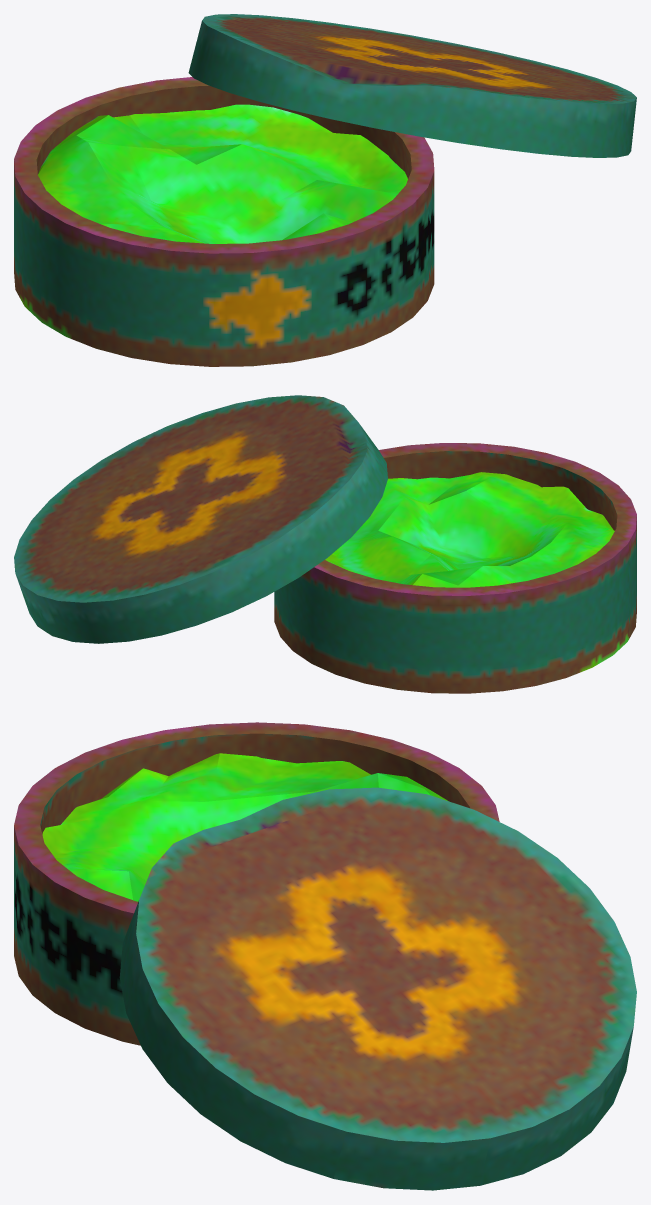
File: Oitment.glb
3 renders of one model, top to bottom at view 1: azimuth 30°, elevation 25°; view 2: azimuth 150°, elevation 25°; view 3: azimuth 270°, elevation 25°, orthographic. The views are drawn at different scales.
Parts seen in each view (by area): view 1: OintMent; view 2: OintMent; view 3: OintMent.
Boxes of the visible parts, bbox=[...] form: OintMent: bbox=[14, 14, 636, 366]; OintMent: bbox=[14, 395, 636, 693]; OintMent: bbox=[14, 722, 636, 1190].
Bounding box in the file's own units: 0.9018 × 0.2613 × 0.6857.
Materials: 2 (2 with a texture image).
